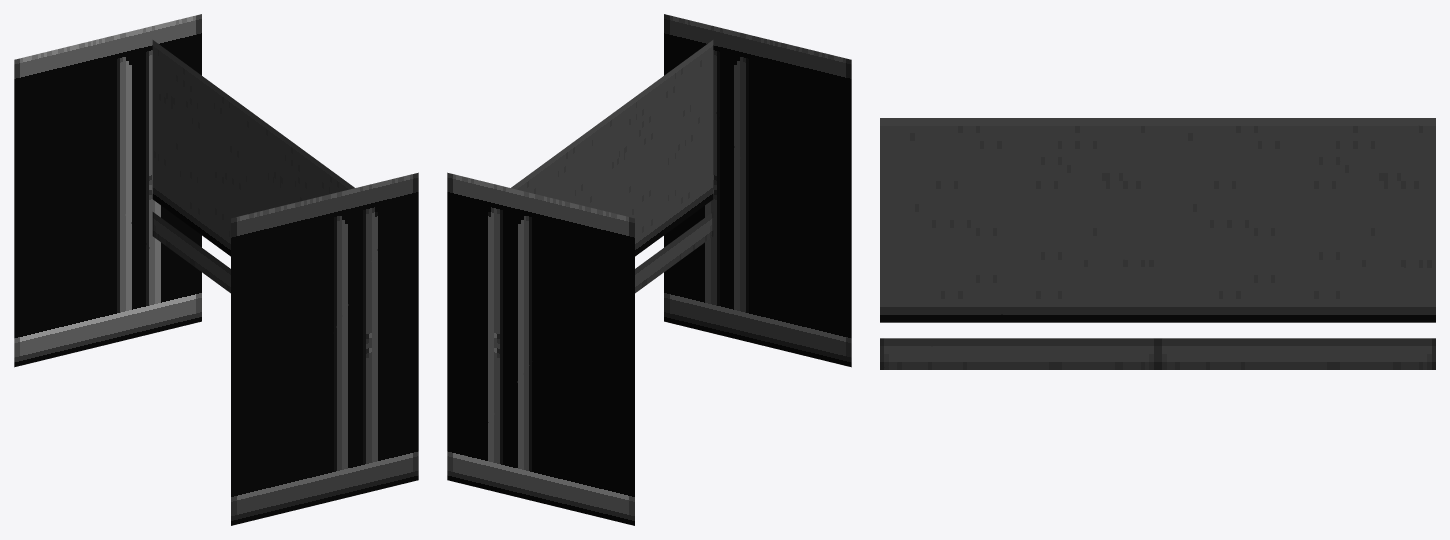
File: secondary_192.glb
3 views of the same model, side by side, from view 1: azimuth 30°, elevation 25°; view 2: azimuth 150°, elevation 25°; view 3: azimuth 270°, elevation 25° (orthographic). The views are drawn at different scales.
Visible parts, largest first — view 1: Object; view 2: Object; view 3: Object.
Part boxes in pixels (bbox=[...]): Object: bbox=[14, 14, 418, 525]; Object: bbox=[447, 14, 851, 525]; Object: bbox=[880, 118, 1435, 369].
Size of the model in its own units: 0.675 by 1.06 by 1.35.
Materials: 3 (3 with a texture image).
